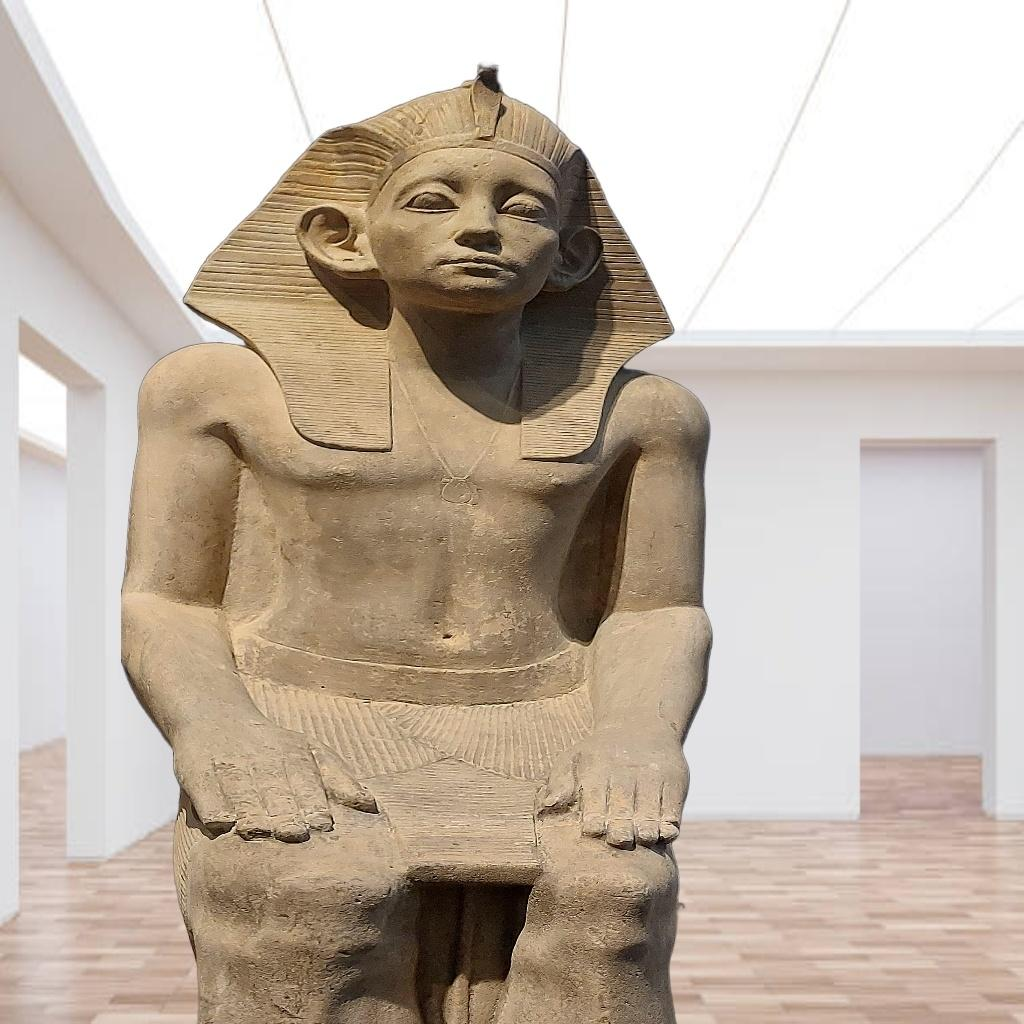King Amenemhat 3: (122, 50, 728, 1024)
